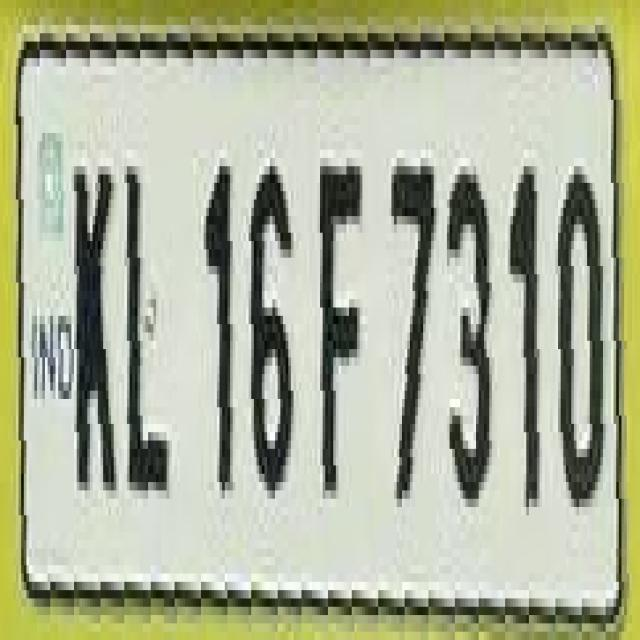plate: (0, 0, 624, 607)
